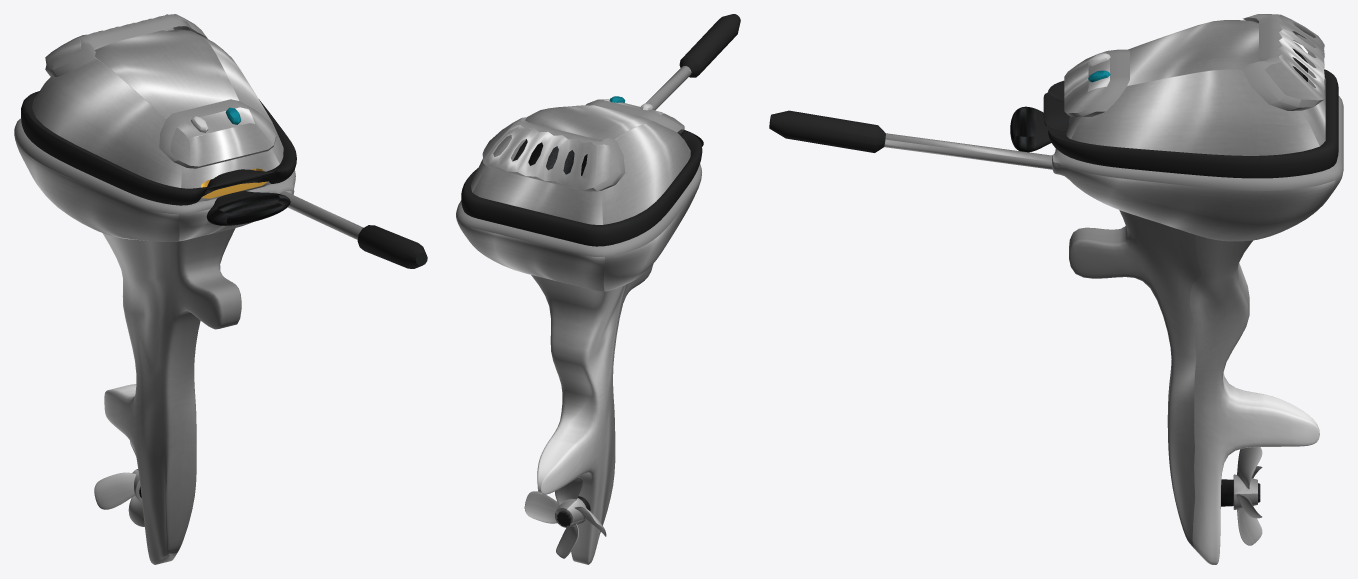
Rendered from MotorBoatEngine.obj.
3 views of the same model, side by side, from view 1: azimuth 30°, elevation 25°; view 2: azimuth 150°, elevation 25°; view 3: azimuth 270°, elevation 25° (orthographic). The views are drawn at different scales.
Parts seen in each view (by area): view 1: Motor_Boat_Engine.003, Motor_Boat_Engine.001; view 2: Motor_Boat_Engine.003, Motor_Boat_Engine.001; view 3: Motor_Boat_Engine.003, Motor_Boat_Engine.001.
Boxes of the visible parts, bbox=[...] form: Motor_Boat_Engine.003: bbox=[14, 14, 363, 564]; Motor_Boat_Engine.001: bbox=[21, 91, 427, 497]; Motor_Boat_Engine.003: bbox=[456, 66, 701, 564]; Motor_Boat_Engine.001: bbox=[461, 14, 740, 526]; Motor_Boat_Engine.003: bbox=[884, 14, 1343, 564]; Motor_Boat_Engine.001: bbox=[769, 48, 1338, 506].
Bounding box in the file's own units: 0.9301 × 2.17 × 2.16.
